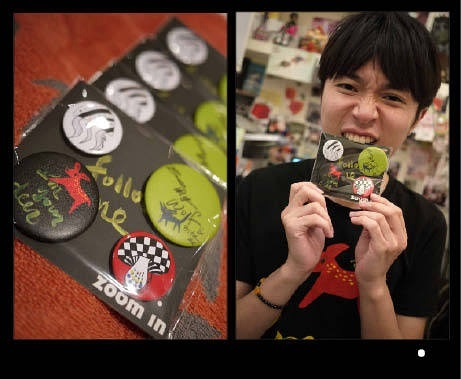face: (321, 51, 414, 162)
